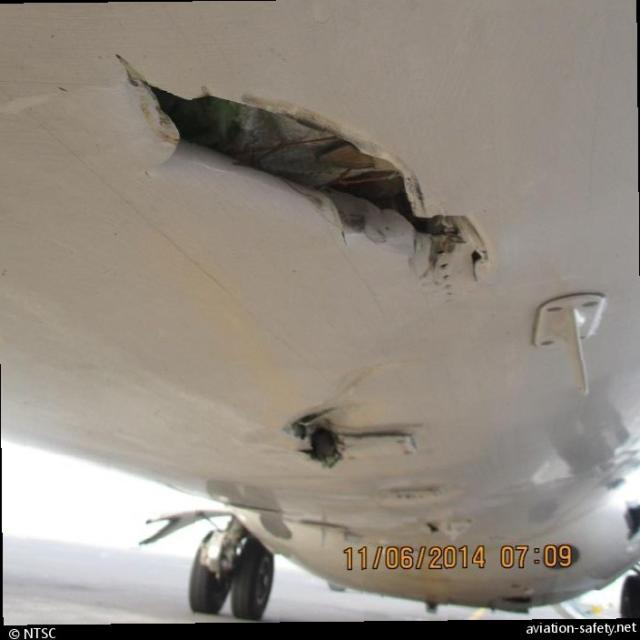crack: (110, 56, 492, 297)
